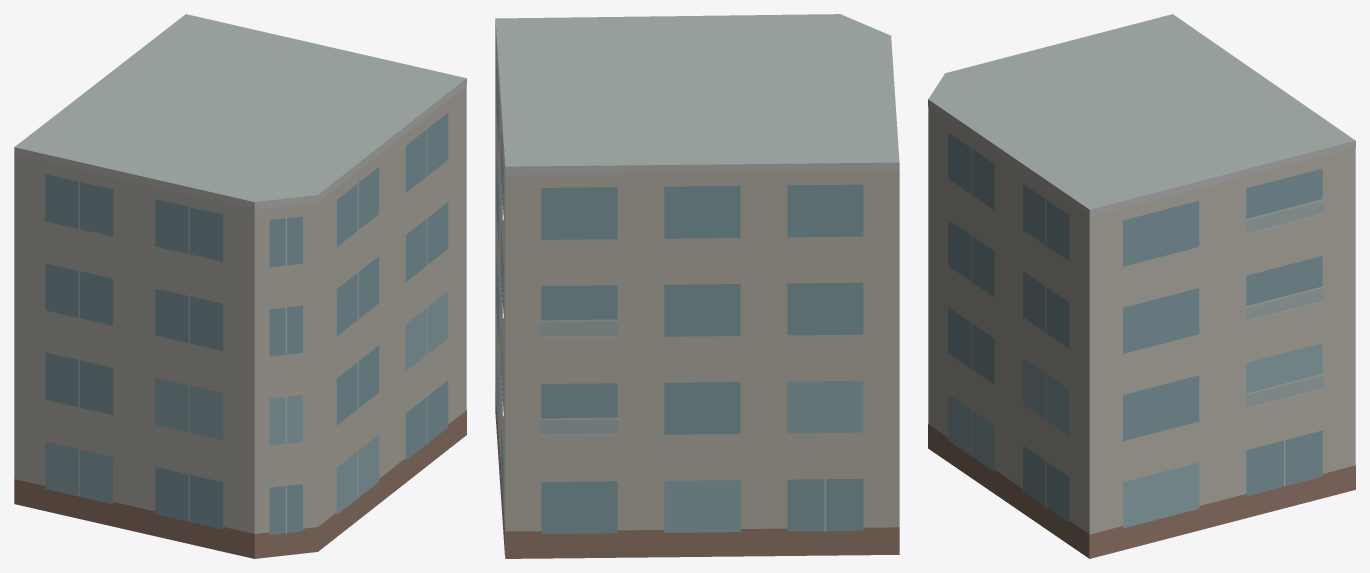
File: survey-upis-32762824.glb
3 views of the same model, side by side, from view 1: azimuth 30°, elevation 25°; view 2: azimuth 150°, elevation 25°; view 3: azimuth 270°, elevation 25° (orthographic). The views are drawn at different scales.
Visible parts, largest first — view 1: survey-upis-32762824.tmp; view 2: survey-upis-32762824.tmp; view 3: survey-upis-32762824.tmp.
Part boxes in pixels (bbox=[...]): survey-upis-32762824.tmp: bbox=[14, 14, 466, 558]; survey-upis-32762824.tmp: bbox=[495, 14, 899, 558]; survey-upis-32762824.tmp: bbox=[928, 14, 1355, 558].
Bounding box in the file's own units: 14.26 × 11.85 × 13.16.
